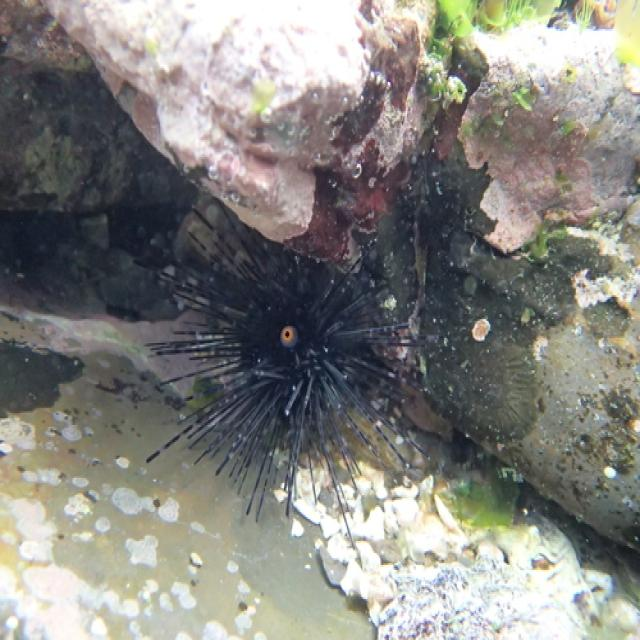Urchin: (145, 198, 430, 565)
